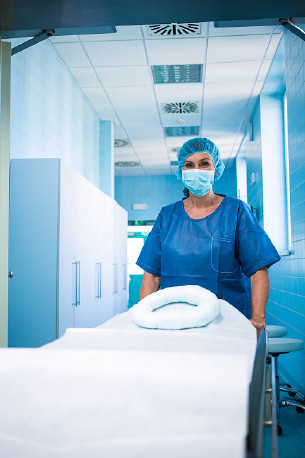face_mask: (182, 153, 213, 197)
